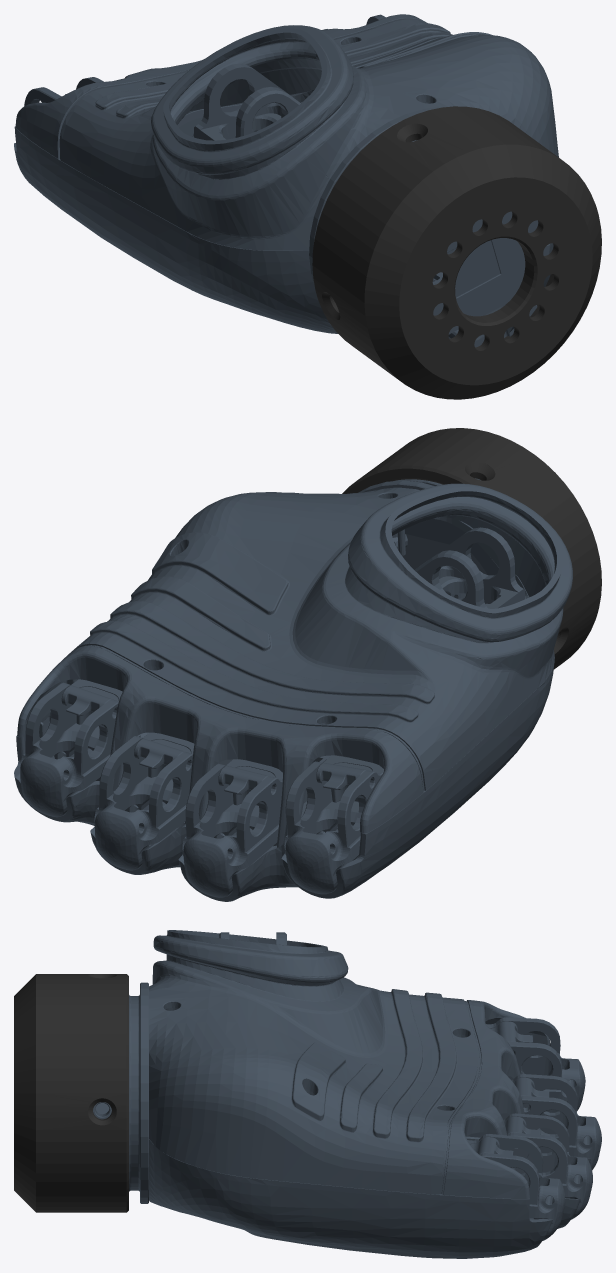
3 views of the same model, one above another, from view 1: azimuth 30°, elevation 25°; view 2: azimuth 150°, elevation 25°; view 3: azimuth 270°, elevation 25° (orthographic). The views are drawn at different scales.
Visible parts, largest first — view 1: left_hand_base; view 2: left_hand_base; view 3: left_hand_base.
Part boxes in pixels (bbox=[...]): left_hand_base: bbox=[14, 14, 601, 399]; left_hand_base: bbox=[14, 428, 601, 901]; left_hand_base: bbox=[14, 930, 601, 1258].
Size of the model in its own units: 0.0884 by 0.1329 by 0.063.
